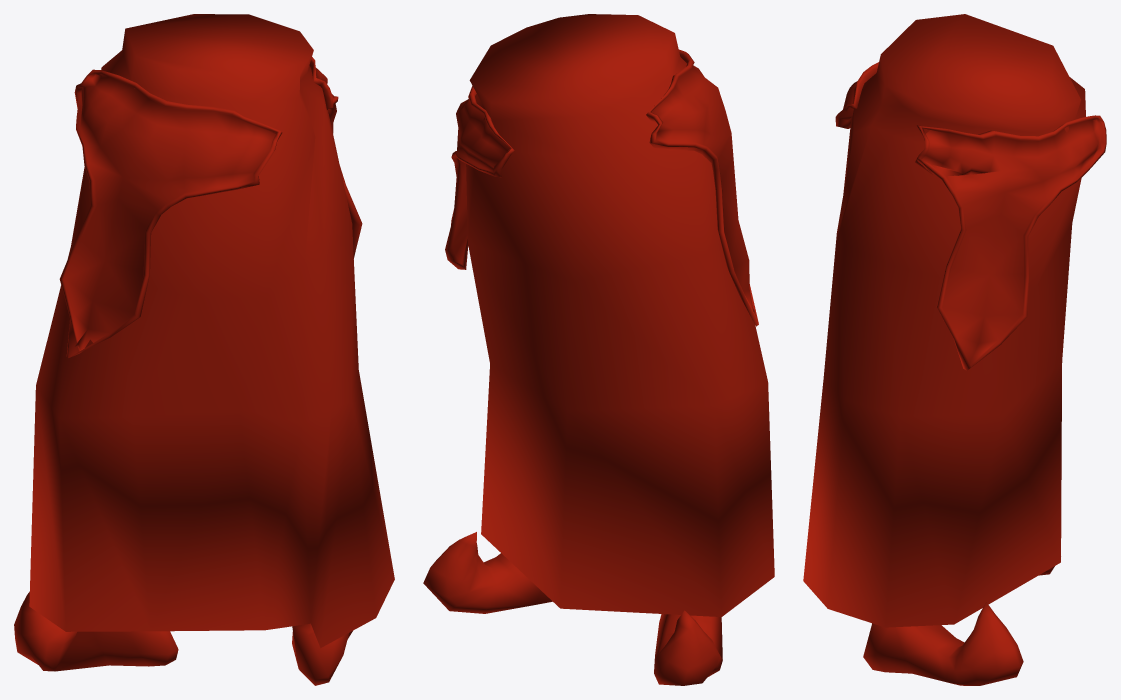
Rendered from bot_000044.obj.
3 renders of one model, left to right at view 1: azimuth 30°, elevation 25°; view 2: azimuth 150°, elevation 25°; view 3: azimuth 270°, elevation 25°, orthographic. The views are drawn at different scales.
Visible parts, largest first — view 1: LowPoly_Warlock.004_Plane.004; view 2: LowPoly_Warlock.004_Plane.004; view 3: LowPoly_Warlock.004_Plane.004.
Part boxes in pixels (x1,y1,x2,y2): LowPoly_Warlock.004_Plane.004: [14, 14, 394, 685]; LowPoly_Warlock.004_Plane.004: [423, 14, 774, 685]; LowPoly_Warlock.004_Plane.004: [803, 14, 1106, 685].
Size of the model in its own units: 0.6135 by 1.14 by 0.5292.
